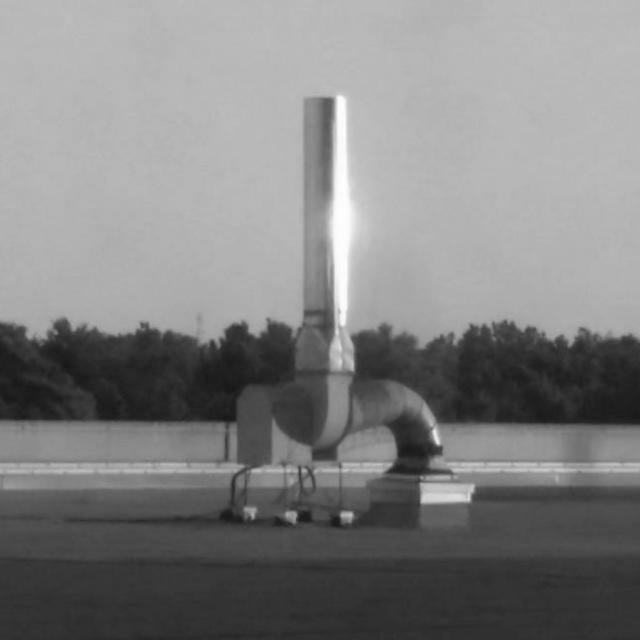missile: (276, 82, 370, 379)
